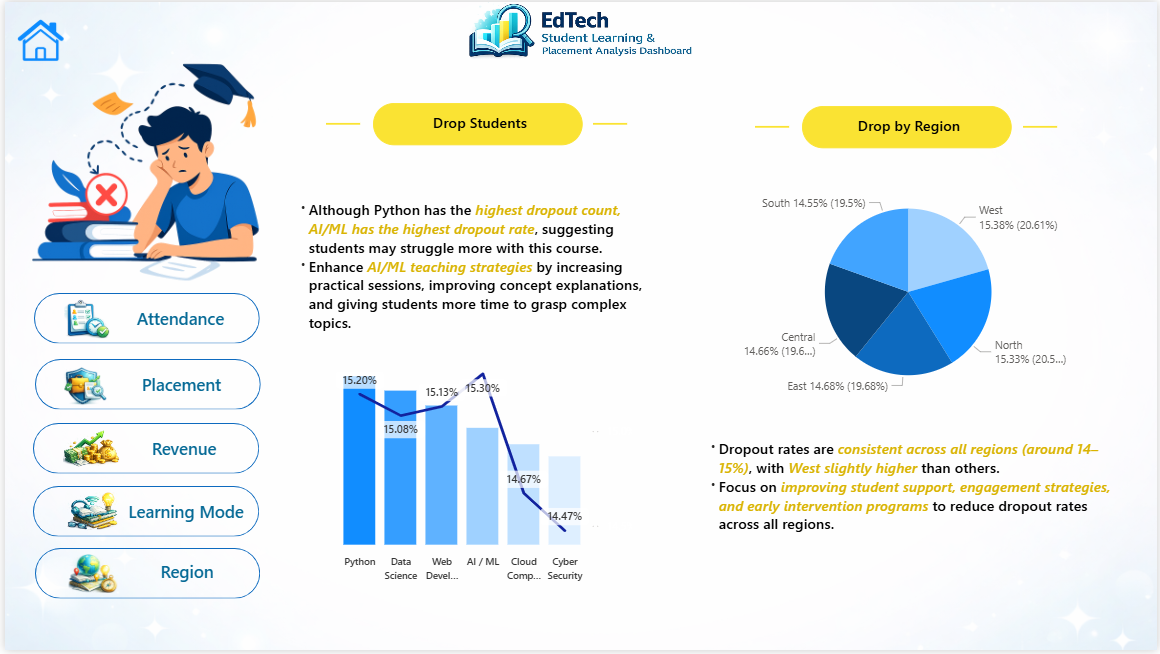

This screenshot's page, from the dashboard's own definition file:
{"tool":"powerbi","page":{"name":"Dropout page","canvas":[1280,720],"ordinal":3},"visuals":[{"type":"image","box":[387.1,0,505.8,68.1],"z":0},{"type":"shape","box":[31,467.3,251.2,56.4],"z":0,"group":"g2"},{"type":"image","box":[13.8,17.5,52.5,50],"z":1000},{"type":"textbox","box":[127,477,144.5,39],"z":1000,"group":"g2"},{"type":"textbox","box":[408.8,112.1,233.4,46.7],"z":2000},{"type":"image","box":[64,473.5,62.7,43.2],"z":2000,"group":"g2"},{"type":"shape","box":[653.9,106.3,37.9,57.4],"z":3000},{"type":"shape","box":[31,538.2,251.2,56.4],"z":3000,"group":"g3"},{"type":"shape","box":[356.2,106.3,37.9,57.4],"z":4000},{"type":"textbox","box":[129,548.7,144.5,39],"z":4000,"group":"g3"},{"type":"textbox","box":[886.1,115.4,233.4,46.7],"z":5000},{"type":"image","box":[66.2,545.1,62.7,43.2],"z":5000,"group":"g3"},{"type":"shape","box":[1131.2,109.6,37.9,57.4],"z":6000},{"type":"shape","box":[32.8,606.5,250.2,56.4],"z":6000,"group":"g4"},{"type":"shape","box":[833.5,109.6,37.9,57.4],"z":7000},{"type":"textbox","box":[129.2,614.1,144.5,39],"z":7000,"group":"g4"},{"type":"textbox","box":[769.8,480.2,483.3,171.1],"z":8000},{"type":"image","box":[66.3,612.9,62.7,43.2],"z":8000,"group":"g4"},{"type":"textbox","box":[314,214.2,421.2,164.9],"z":9000},{"type":"pieChart","fields":{"Y":["project students_data.Drop Rate"],"Category":["project students_data.Region"]},"box":[811.5,192.1,384.8,259.8],"z":10000},{"type":"lineStackedColumnComboChart","fields":{"Category":["project students_data.Course_Name"],"Y":["project students_data.Total Drop stu"],"Y2":["project students_data.Drop Rate"]},"box":[347.7,379.2,353.8,273.1],"z":11000},{"type":"shape","box":[31.9,323.6,250.7,56.2],"z":12000},{"type":"shape","box":[32.8,396.4,250.7,56.2],"z":12000,"group":"g1"},{"type":"textbox","box":[122.4,333.4,145.4,39],"z":13000},{"type":"textbox","box":[122.5,405.9,145.4,39],"z":13000,"group":"g1"},{"type":"image","box":[60.3,330.2,62.3,43.7],"z":14000},{"type":"image","box":[56.9,405,62.3,43],"z":14000,"group":"g1"},{"type":"image","box":[12.4,51.4,282,271.3],"z":15000},{"type":"group","id":"g1","title":"Group 1","box":[32.8,396.4,250.9,56.7],"z":16000},{"type":"group","id":"g2","title":"Group 2","box":[31,467.3,250.9,56.7],"z":17000},{"type":"group","id":"g3","title":"Group 3","box":[31,538.2,251.8,56.7],"z":18000},{"type":"group","id":"g4","title":"Group 4","box":[32.8,606.5,250,56.7],"z":19000}]}

Visuals, with their boxes in screenshot pixels (x1, y1, x2, y2), scaled from the page's 1280x720 canvas onto the 1160x654 screenshot:
image: <bbox>351, 0, 809, 62</bbox>
shape: <bbox>28, 424, 256, 476</bbox>
image: <bbox>13, 16, 60, 61</bbox>
textbox: <bbox>115, 433, 246, 469</bbox>
textbox: <bbox>370, 102, 582, 144</bbox>
image: <bbox>58, 430, 115, 469</bbox>
shape: <bbox>593, 97, 627, 149</bbox>
shape: <bbox>28, 489, 256, 540</bbox>
shape: <bbox>323, 97, 357, 149</bbox>
textbox: <bbox>117, 498, 248, 534</bbox>
textbox: <bbox>803, 105, 1015, 147</bbox>
image: <bbox>60, 495, 117, 534</bbox>
shape: <bbox>1025, 100, 1059, 152</bbox>
shape: <bbox>30, 551, 256, 602</bbox>
shape: <bbox>755, 100, 790, 152</bbox>
textbox: <bbox>117, 558, 248, 593</bbox>
textbox: <bbox>698, 436, 1136, 592</bbox>
image: <bbox>60, 557, 117, 596</bbox>
textbox: <bbox>285, 195, 666, 344</bbox>
pieChart - project students_data.Drop Rate x project students_data.Region: <bbox>735, 174, 1084, 410</bbox>
lineStackedColumnComboChart - project students_data.Course_Name x project students_data.Total Drop stu: <bbox>315, 344, 636, 593</bbox>
shape: <bbox>29, 294, 256, 345</bbox>
shape: <bbox>30, 360, 257, 411</bbox>
textbox: <bbox>111, 303, 243, 338</bbox>
textbox: <bbox>111, 369, 243, 404</bbox>
image: <bbox>55, 300, 111, 340</bbox>
image: <bbox>52, 368, 108, 407</bbox>
image: <bbox>11, 47, 267, 293</bbox>
"Group 1" group: <bbox>30, 360, 257, 412</bbox>
"Group 2" group: <bbox>28, 424, 255, 476</bbox>
"Group 3" group: <bbox>28, 489, 256, 540</bbox>
"Group 4" group: <bbox>30, 551, 256, 602</bbox>
